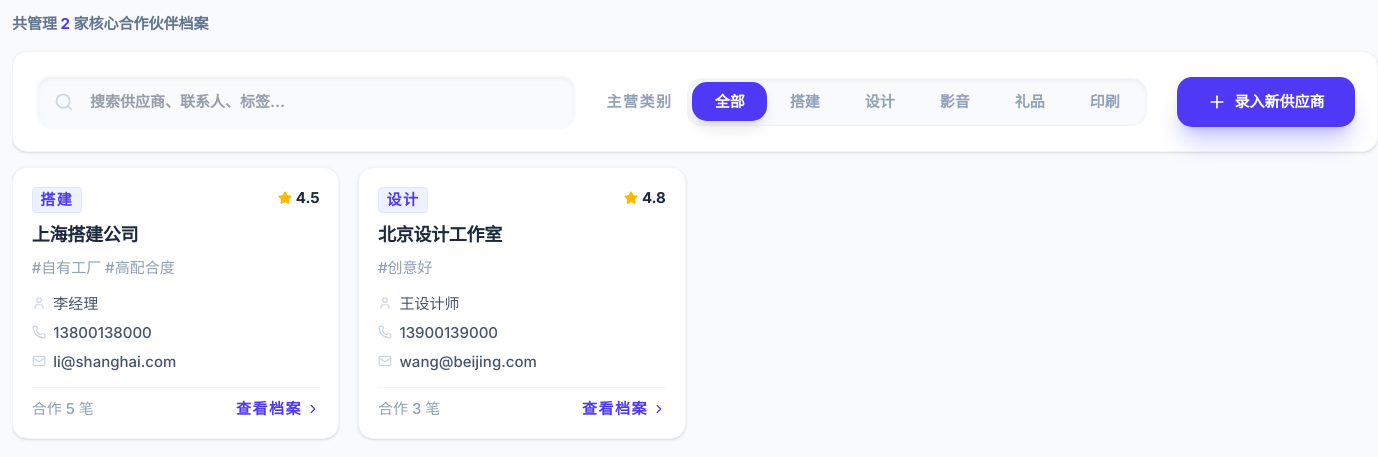
Scenario: 供应商管理页面交互测试 › 边界情况测试 › 空搜索结果应隐藏供应商卡片
In the field with placeholder "搜索供应商、联系人、标签...": (306, 102) 36,74 -> 576,129, type "不存在的供应商"
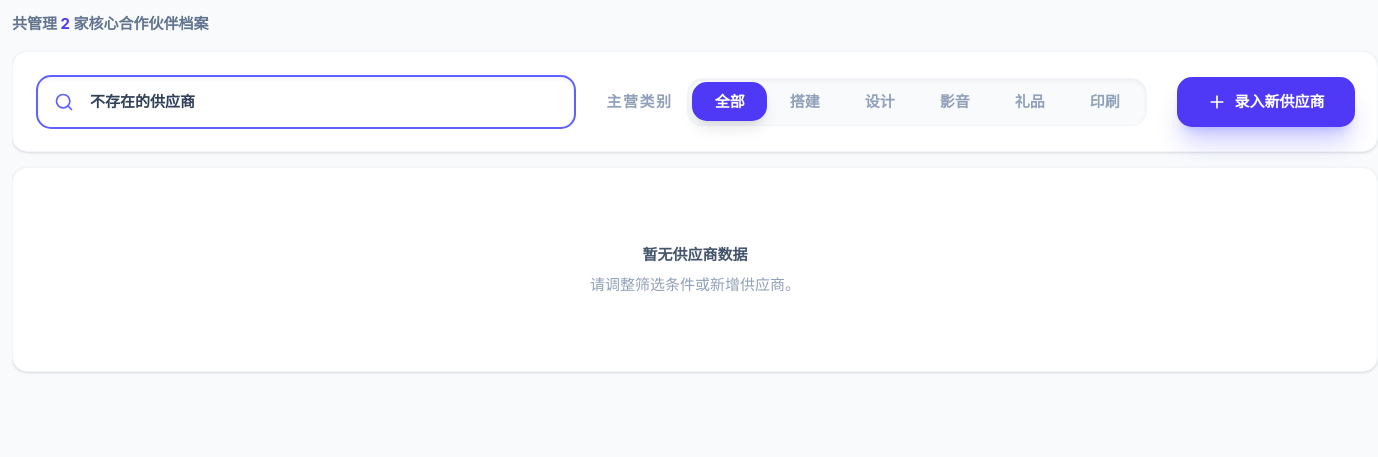
Expected: the heading "上海搭建公司" is gone
